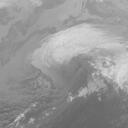cyclone: (32, 31, 88, 79)
